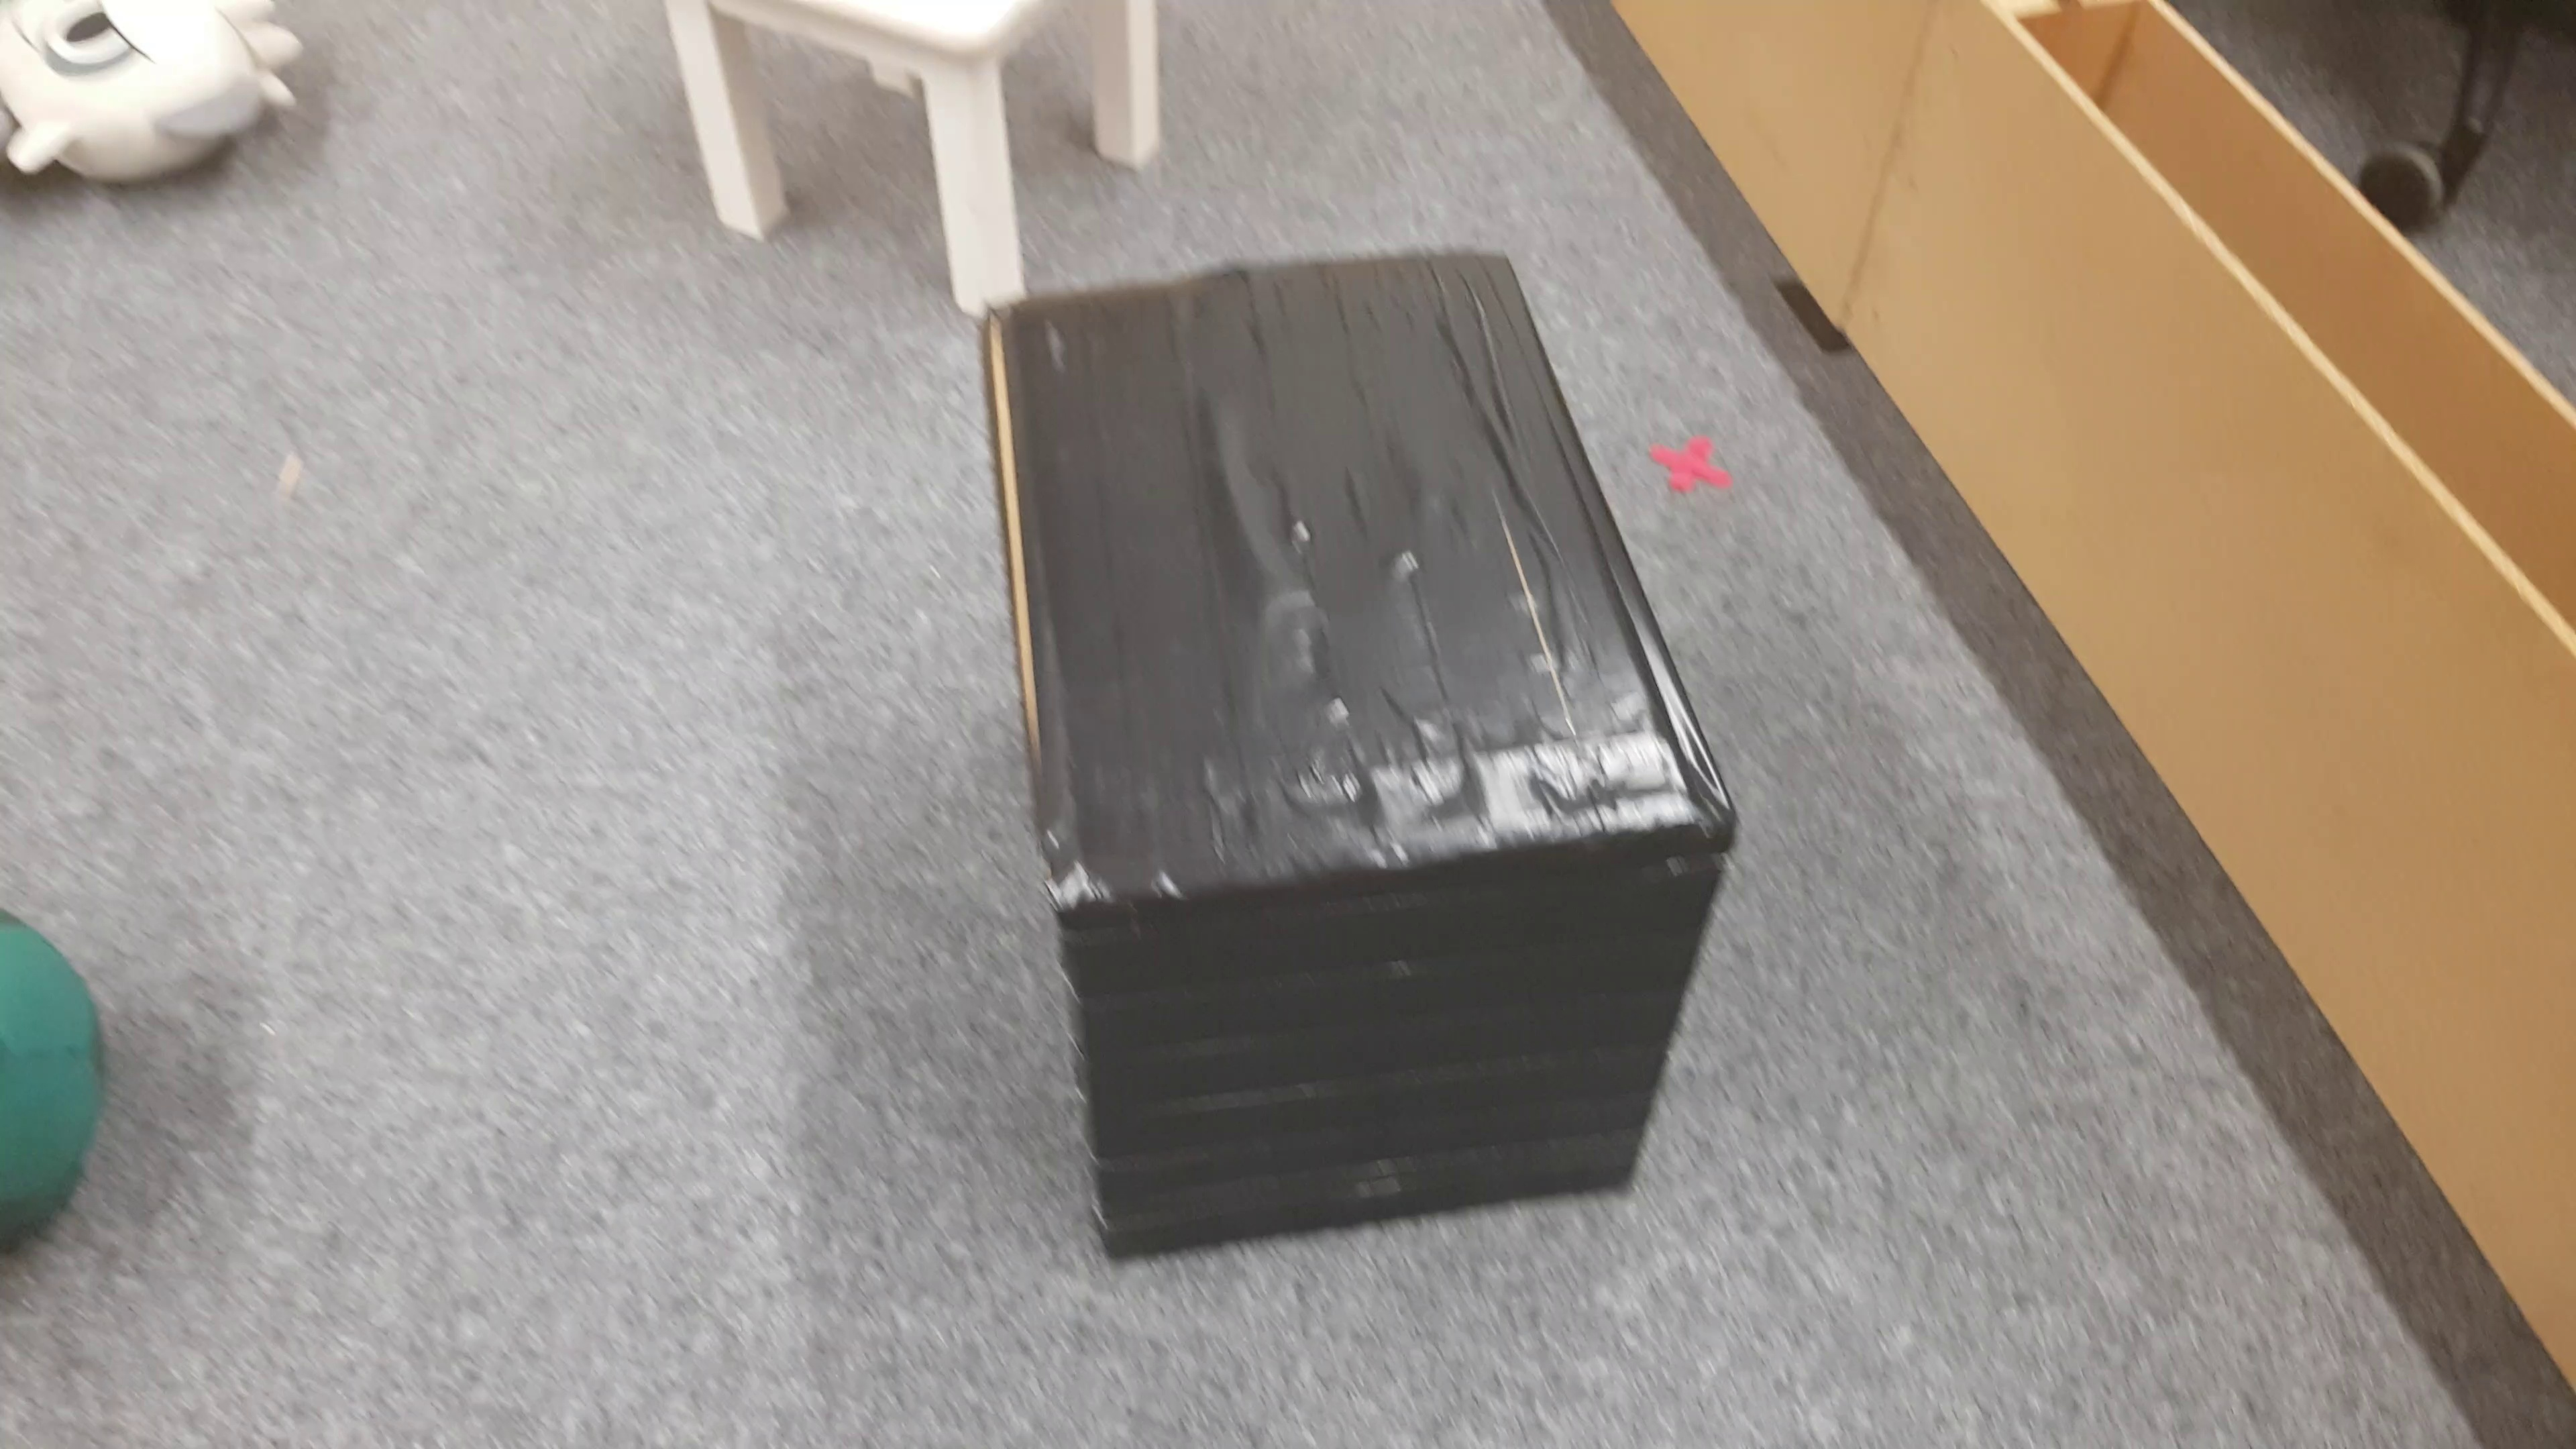grasp: (0, 4, 303, 203)
kick: (5, 909, 111, 1297)
push: (966, 248, 1727, 1261)
